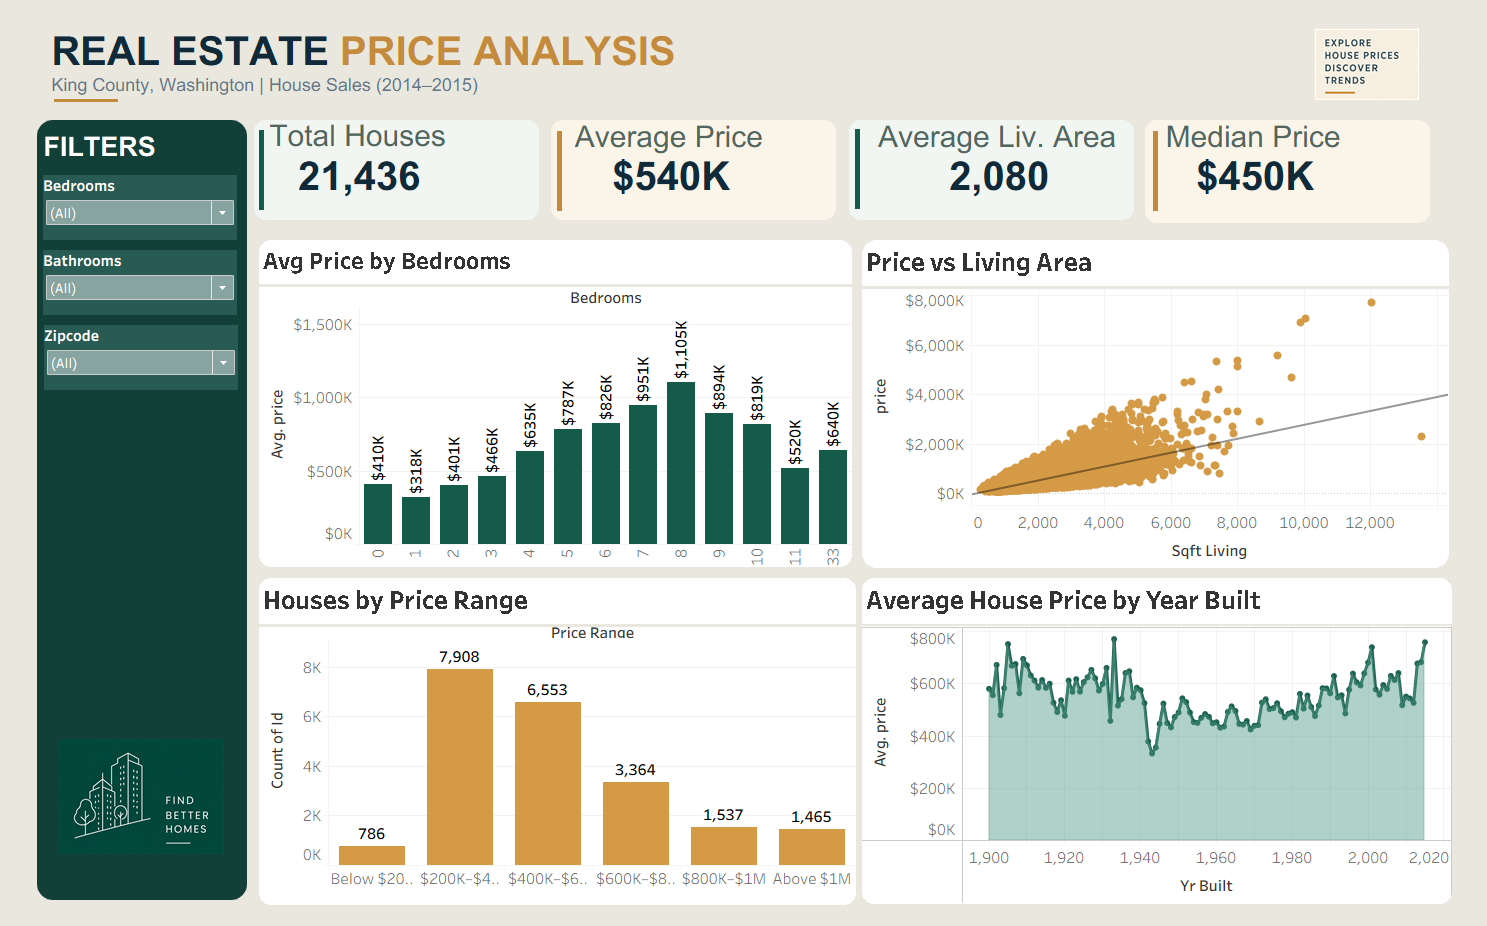

The dashboard page shown, as its layout file describes it:
{"tool":"tableau","page":{"name":"REAL ESTATE PRICE ANALYSIS","canvas":[1440,900],"ordinal":0},"visuals":[{"type":"title","box":[24,8,780,68]},{"type":"image","param":"C:/Users/kunal/Downloads/dash.png","box":[1270,8,145,72]},{"type":"blank","box":[30,79,64,3]},{"type":"worksheet","title":"KPI - Total Houses","mark":"Automatic","box":[230,100,285,100]},{"type":"worksheet","title":"KPI - Average Price","mark":"Automatic","box":[533,100,285,100]},{"type":"worksheet","title":"KPI - Average Living Area","mark":"Automatic","box":[829,100,285,100]},{"type":"worksheet","title":"KPI - Median Price","mark":"Automatic","box":[1121,100,285,103]},{"type":"blank","box":[837,109,5,80]},{"type":"blank","box":[235,110,5,80]},{"type":"blank","box":[540,111,5,80]},{"type":"blank","box":[1129,111,5,80]},{"type":"text","box":[16,112,178,30]},{"type":"filter","title":"Avg Price by Bedrooms","param":"[federated.0eprhfq0vbdd6m19e0d3q1sx5ixp].[none:bedrooms:ok]","box":[8,155,194,65]},{"type":"worksheet","title":"Avg Price by Bedrooms","mark":"Bar","rows":["price"],"cols":["bedrooms"],"box":[235,220,593,327]},{"type":"worksheet","title":"Price vs Living Area","mark":"Circle","rows":["price"],"cols":["sqft_living"],"box":[838,220,587,328]},{"type":"filter","title":"Avg Price by Bedrooms","param":"[federated.0eprhfq0vbdd6m19e0d3q1sx5ixp].[none:bathrooms:ok]","box":[8,230,194,65]},{"type":"filter","title":"Avg Price by Bedrooms","param":"[federated.0eprhfq0vbdd6m19e0d3q1sx5ixp].[none:zipcode:ok]","box":[8,305,194,65]},{"type":"worksheet","title":"Houses by Price Range","mark":"Bar","rows":["id"],"cols":["Calculation_1569610711736320"],"box":[235,558,597,327]},{"type":"worksheet","title":"Average House Price by Year Built","mark":"Line","rows":["price","price"],"cols":["yr_built"],"box":[838,558,590,326]},{"type":"image","param":"C:/Users/kunal/Downloads/Find Better Homes.png","box":[20,719,167,115]}]}

Visuals, with their boxes in screenshot pixels (x1, y1, x2, y2), scaled from the page's 1440x900 canvas onto the 1487x926 screenshot:
title: {"left": 25, "top": 8, "right": 830, "bottom": 78}
image: {"left": 1311, "top": 8, "right": 1461, "bottom": 82}
blank: {"left": 31, "top": 81, "right": 97, "bottom": 84}
"KPI - Total Houses" worksheet: {"left": 238, "top": 103, "right": 532, "bottom": 206}
"KPI - Average Price" worksheet: {"left": 550, "top": 103, "right": 845, "bottom": 206}
"KPI - Average Living Area" worksheet: {"left": 856, "top": 103, "right": 1150, "bottom": 206}
"KPI - Median Price" worksheet: {"left": 1158, "top": 103, "right": 1452, "bottom": 209}
blank: {"left": 864, "top": 112, "right": 869, "bottom": 194}
blank: {"left": 243, "top": 113, "right": 248, "bottom": 195}
blank: {"left": 558, "top": 114, "right": 563, "bottom": 197}
blank: {"left": 1166, "top": 114, "right": 1171, "bottom": 197}
text: {"left": 17, "top": 115, "right": 200, "bottom": 146}
"Avg Price by Bedrooms" filter: {"left": 8, "top": 159, "right": 209, "bottom": 226}
"Avg Price by Bedrooms" worksheet (Bar marks): {"left": 243, "top": 226, "right": 855, "bottom": 563}
"Price vs Living Area" worksheet (Circle marks): {"left": 865, "top": 226, "right": 1472, "bottom": 564}
"Avg Price by Bedrooms" filter: {"left": 8, "top": 237, "right": 209, "bottom": 304}
"Avg Price by Bedrooms" filter: {"left": 8, "top": 314, "right": 209, "bottom": 381}
"Houses by Price Range" worksheet (Bar marks): {"left": 243, "top": 574, "right": 859, "bottom": 911}
"Average House Price by Year Built" worksheet (Line marks): {"left": 865, "top": 574, "right": 1475, "bottom": 910}
image: {"left": 21, "top": 740, "right": 193, "bottom": 858}
